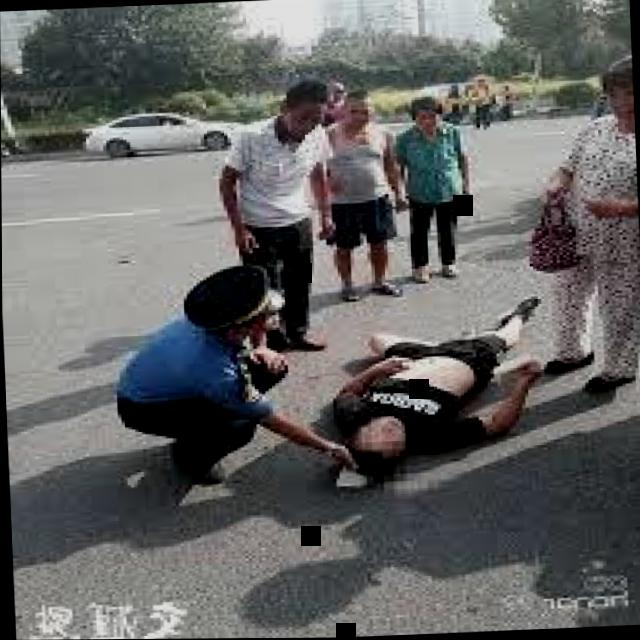Fall-Detected: (304, 283, 571, 485)
